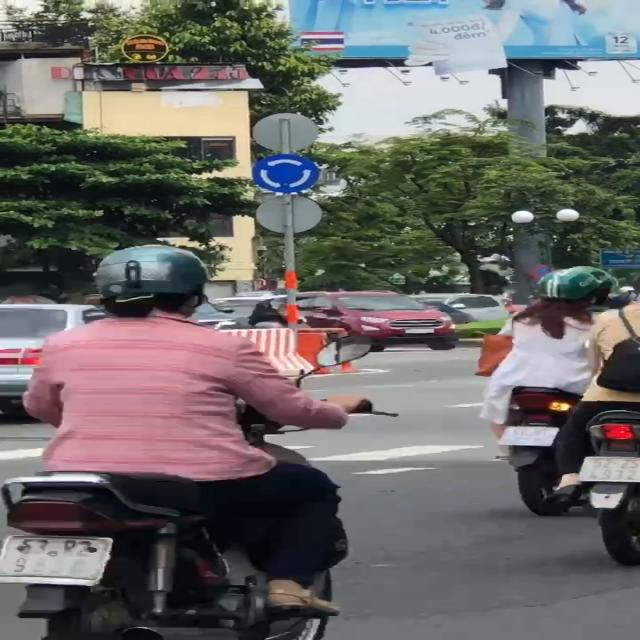Bien bao noi giao nhau chay theo vong xuyen: (247, 152, 326, 194)
